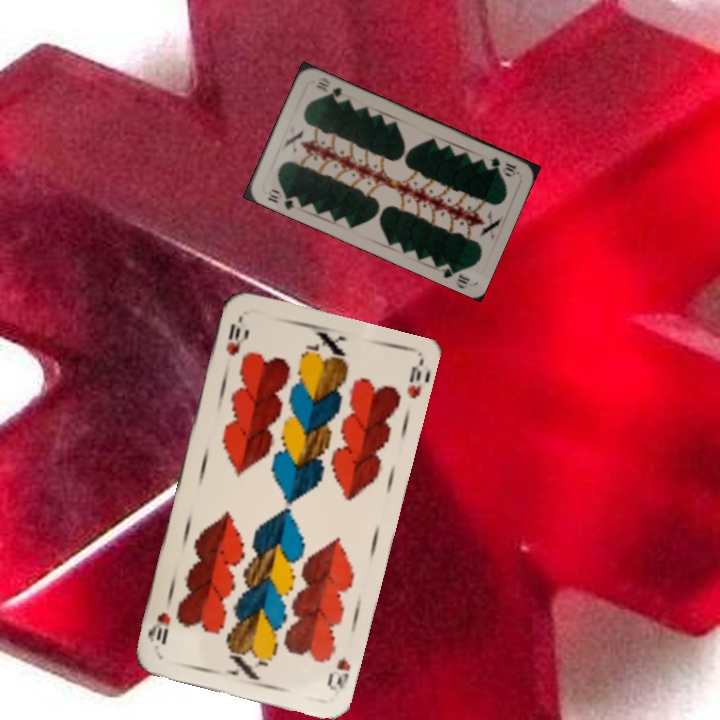G10: (485, 153, 521, 179), (264, 185, 297, 212)
H10: (323, 652, 354, 698), (222, 319, 244, 359)
